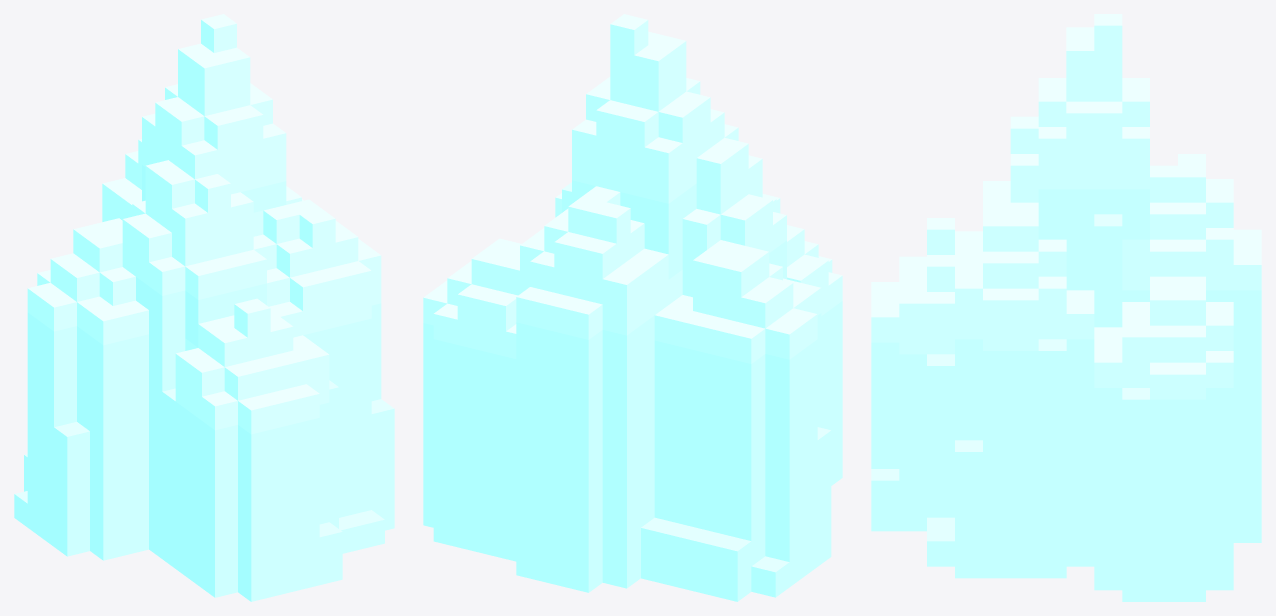
File: sea_crystal.glb
The picture shows the model from 3 angles, left to right: view 1: azimuth 30°, elevation 25°; view 2: azimuth 150°, elevation 25°; view 3: azimuth 270°, elevation 25°; orthographic projection. The views are drawn at different scales.
Bounding box in the file's own units: 0.5833 × 0.8333 × 0.5833.
